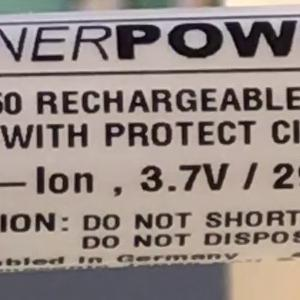keyword: (130, 153, 236, 202)
